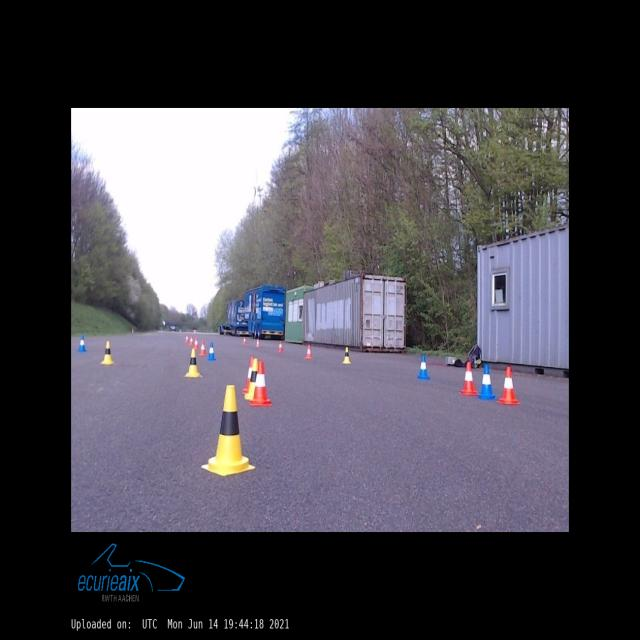blue_cone: (477, 364, 497, 399), (418, 355, 430, 379), (207, 342, 216, 360), (78, 336, 87, 352)
orange_cone: (248, 360, 272, 406), (497, 367, 520, 405), (459, 362, 478, 394), (242, 356, 254, 394), (198, 340, 206, 356), (306, 344, 312, 358), (278, 341, 284, 352), (194, 338, 198, 348), (256, 339, 260, 346), (243, 337, 247, 344), (185, 335, 189, 342), (190, 336, 193, 345)
yellow_cone: (202, 384, 256, 476), (184, 349, 202, 377), (245, 358, 257, 399), (101, 341, 114, 364), (342, 347, 351, 363)
